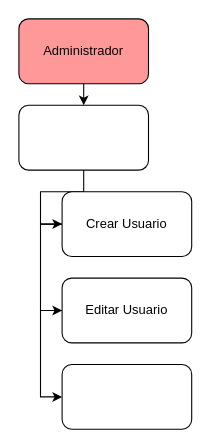
The diagram is 211 pixels wide and 448 high, and some of its shapes have lost their labels. The shapes that lost their labels are listed below. From the top down, each one's box as (x1, y1, x2, y2) in pixels, then its label:
(18, 104, 148, 170): Usuario
(61, 363, 192, 429): Eliminar Usuario
